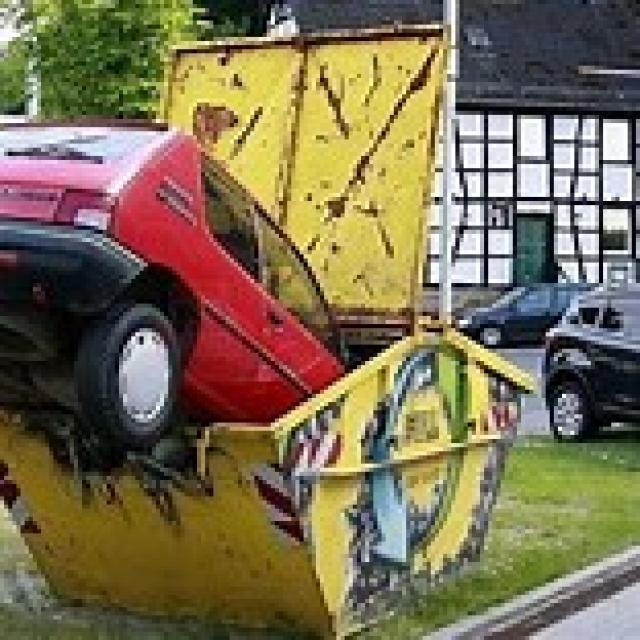Accident: (19, 49, 417, 499)
